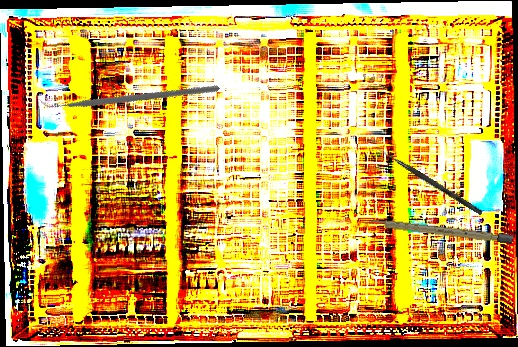Chopper: (37, 5, 220, 181)
Hook Surgical: (375, 146, 484, 216)
Scalpel Handle: (365, 216, 514, 245)
